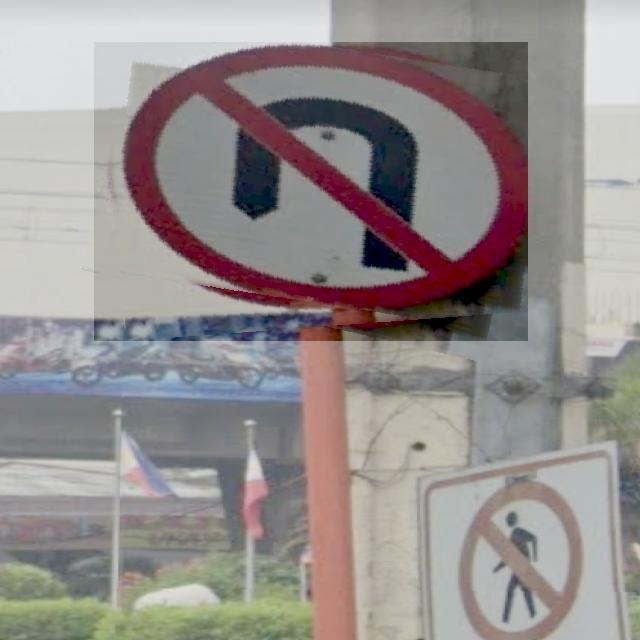no u turn: (94, 42, 528, 341)
